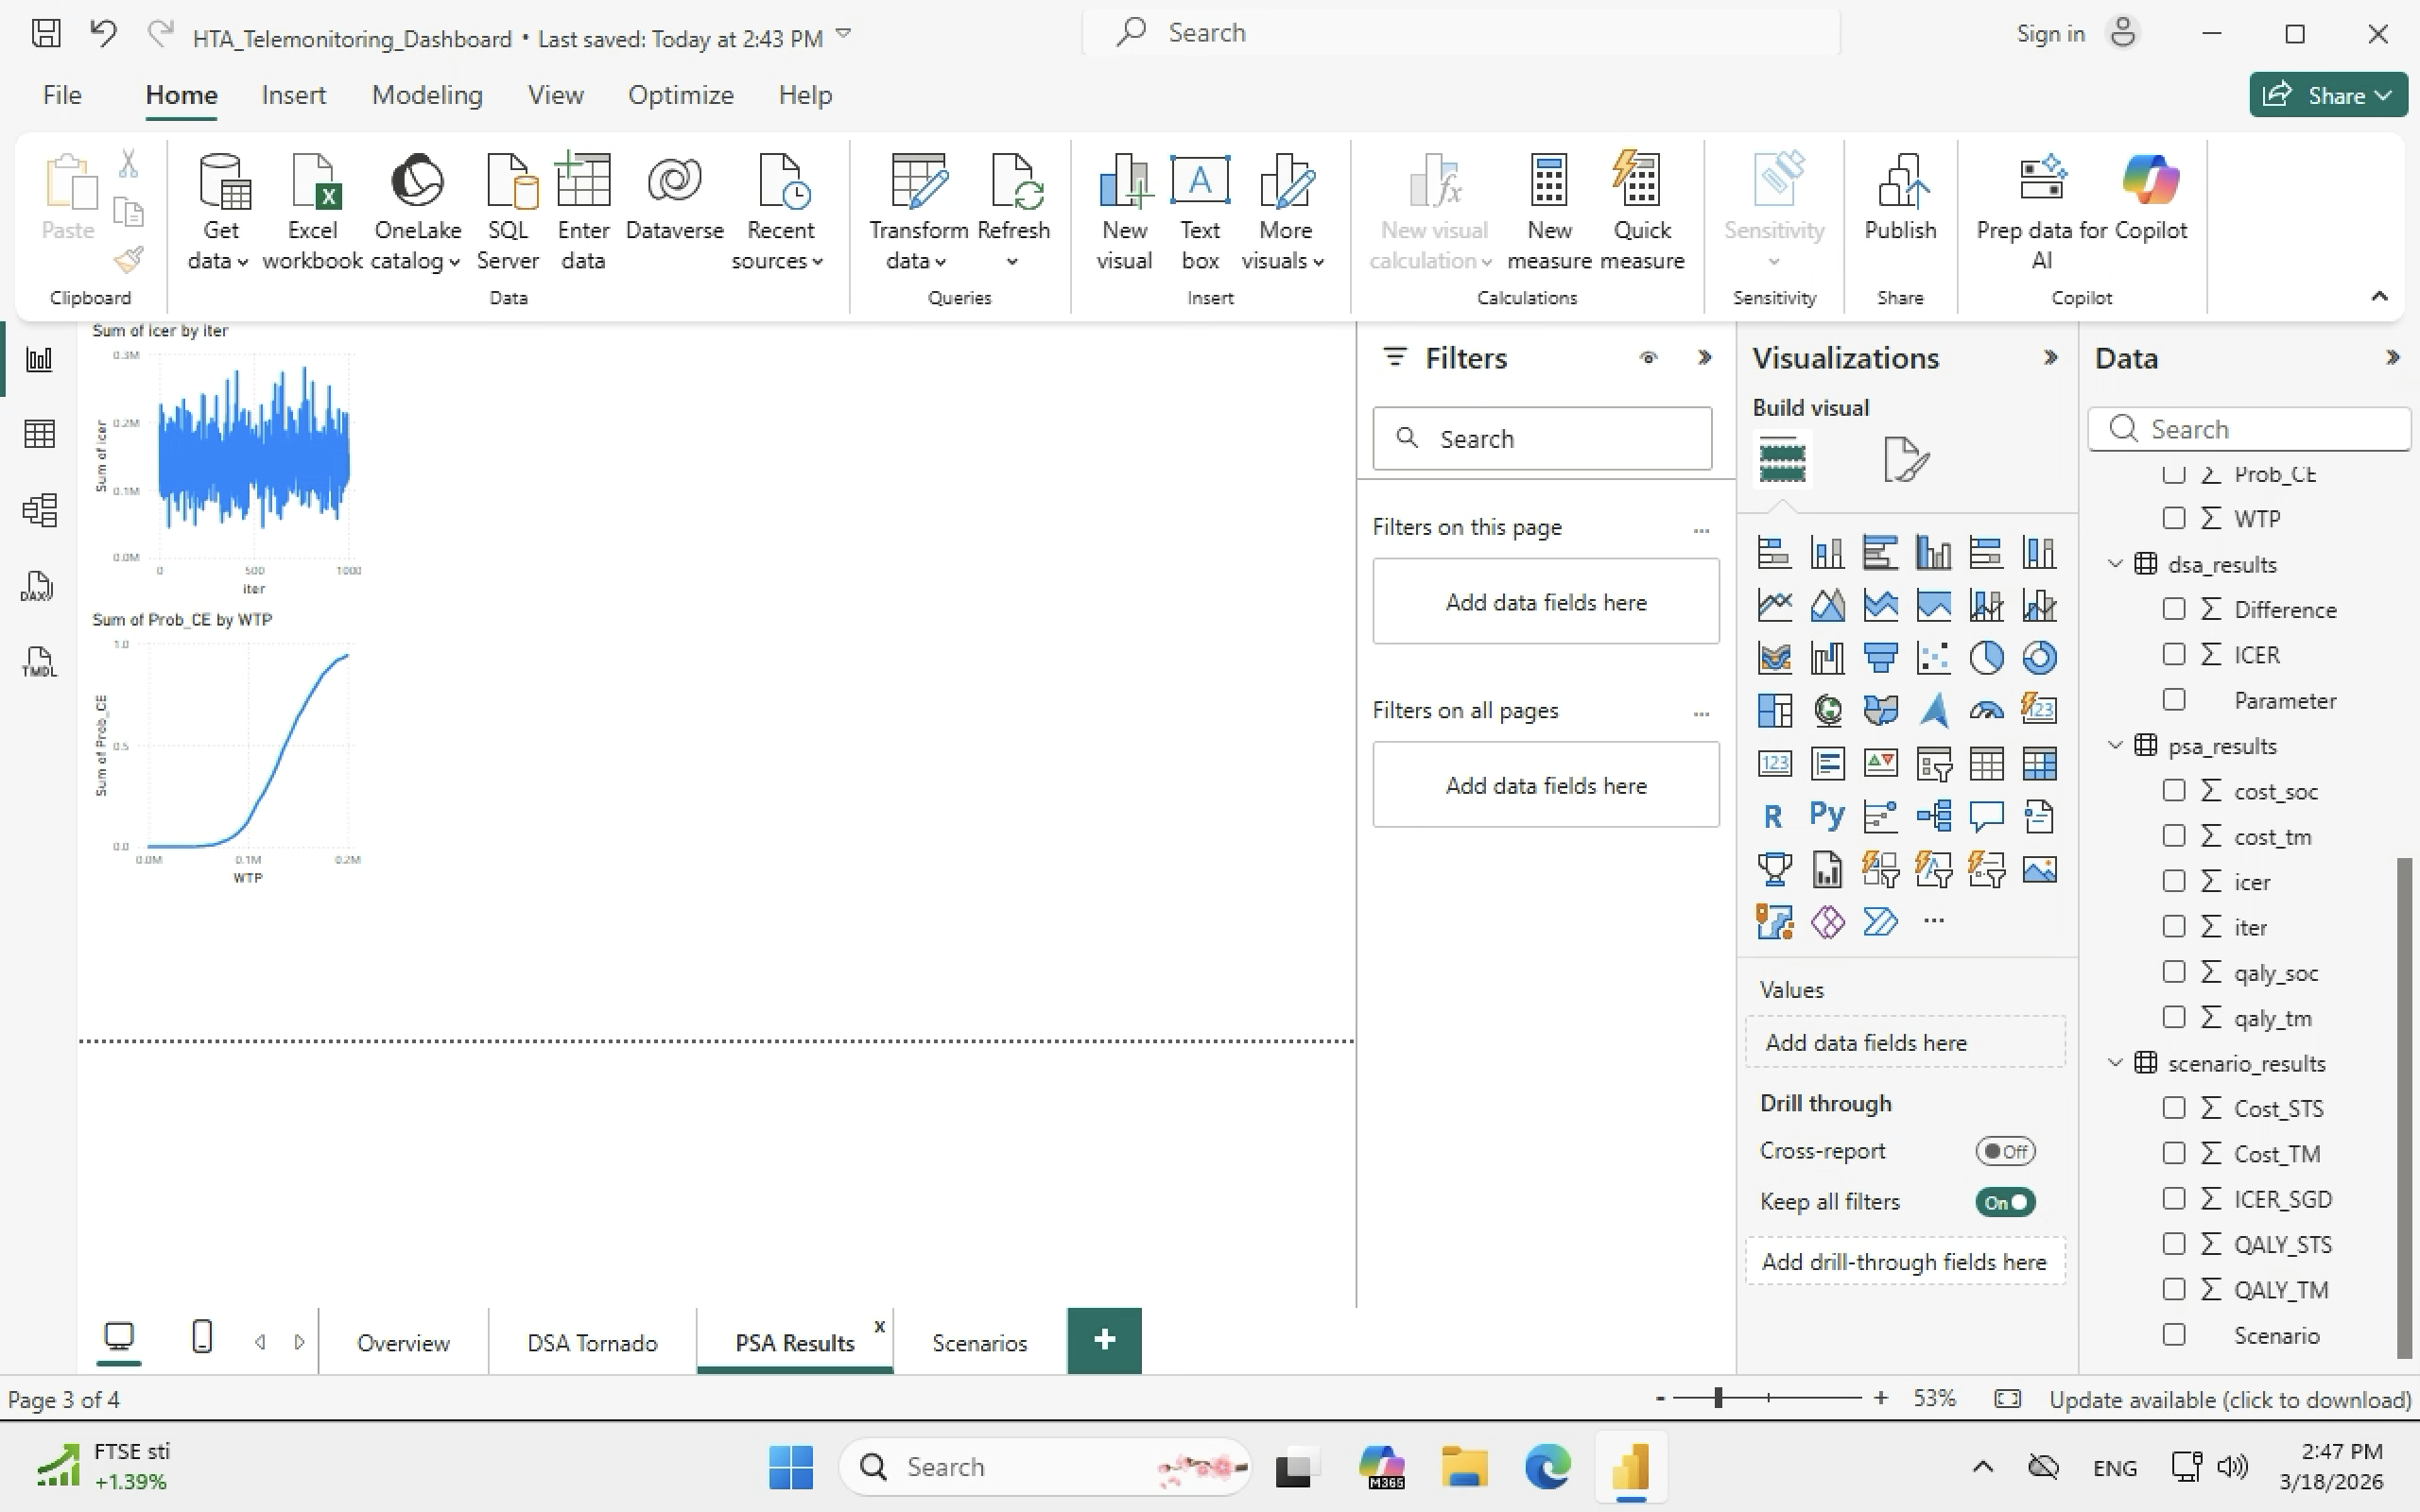

What the dashboard file says about the page in this screenshot:
{"tool":"powerbi","page":{"name":"PSA Results","canvas":[1280,720],"ordinal":2},"visuals":[{"type":"lineChart","fields":{"Category":["psa_results.iter"],"Y":["Sum(psa_results.icer)"]},"box":[10,0,280,280],"z":0},{"type":"lineChart","fields":{"Category":["ceac_results.WTP"],"Y":["Sum(ceac_results.Prob_CE)"]},"box":[10,290,280,280],"z":1}]}

Visuals, with their boxes on the page's 1280x720 design canvas (x1, y1, x2, y2). These are canvas units, not pixel positions in the 2420x1512 screenshot, which may show the page scaled, cropped or inside an application window:
lineChart - psa_results.iter x Sum(psa_results.icer): (10,0,290,280)
lineChart - ceac_results.WTP x Sum(ceac_results.Prob_CE): (10,290,290,570)
